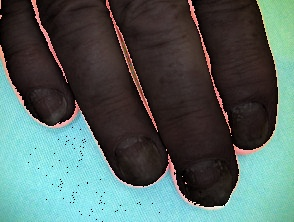Nail_psoriasis: (174, 150, 240, 215), (110, 131, 170, 189), (223, 97, 273, 154), (25, 81, 71, 129)
